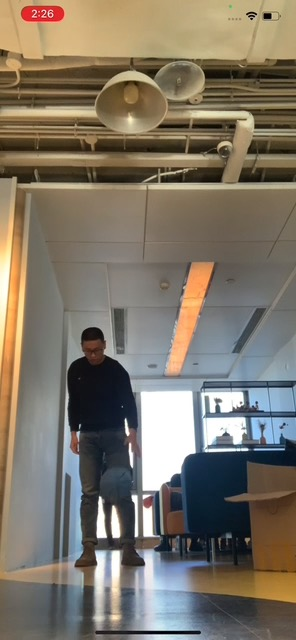ball: (98, 466, 133, 504)
